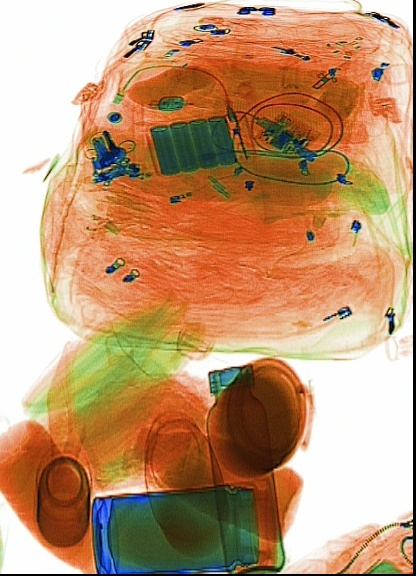powerbank: (139, 104, 254, 177)
